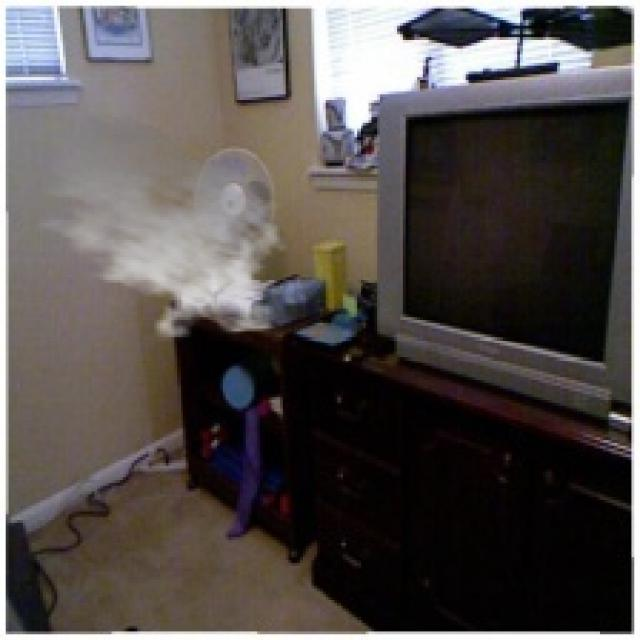smoke: (23, 111, 291, 340)
